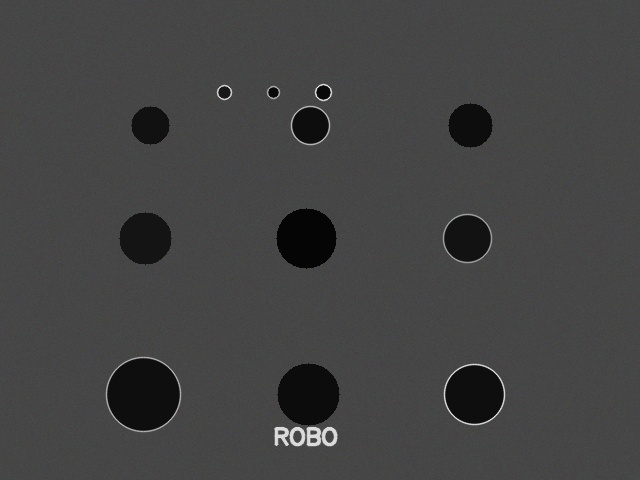hole: (106, 357, 180, 431), (277, 363, 339, 425), (276, 208, 336, 268), (444, 364, 504, 424), (119, 212, 171, 264), (443, 214, 491, 262), (448, 103, 492, 147), (131, 106, 169, 144), (291, 106, 329, 144), (315, 84, 331, 100), (217, 85, 231, 99), (267, 86, 279, 98)
